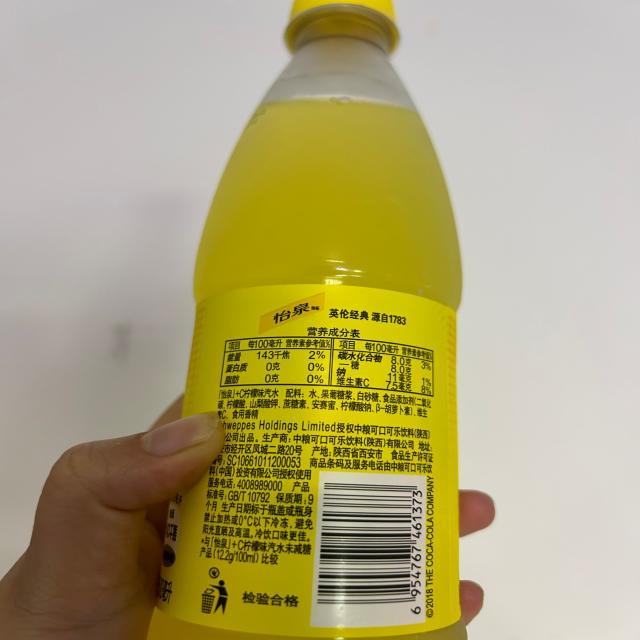bottle: (142, 0, 466, 638)
